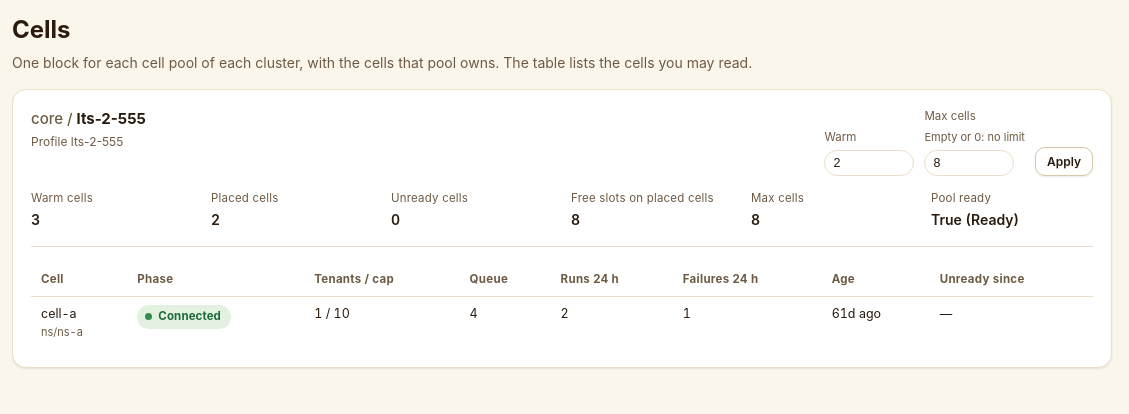
Test: The scale control reports every refusal › renders the message of a 400
The width and height of the screenshot is (1129, 414).
Replace the text in the number field named "Max cells of lts-2-555 on core" with "1" at (970, 163), box [924,150,1014,176]
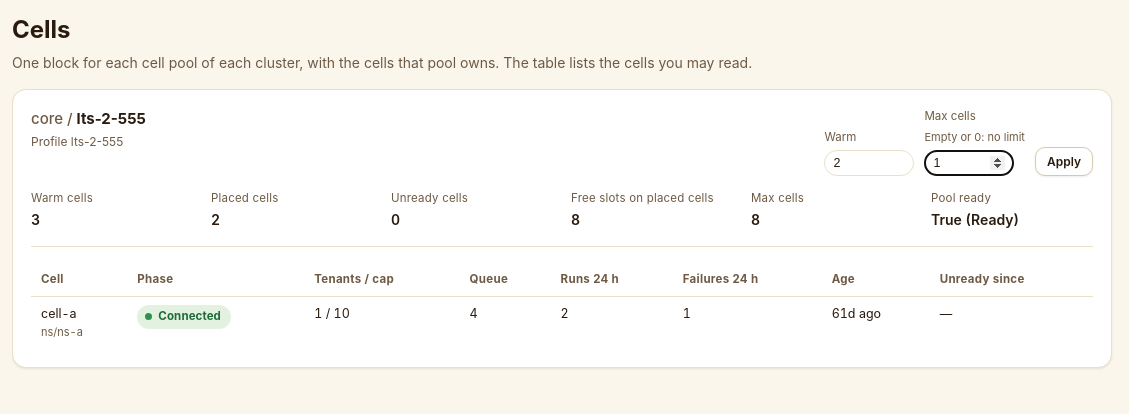
Click the button "Apply" at (1064, 161), box [1035,147,1093,176]
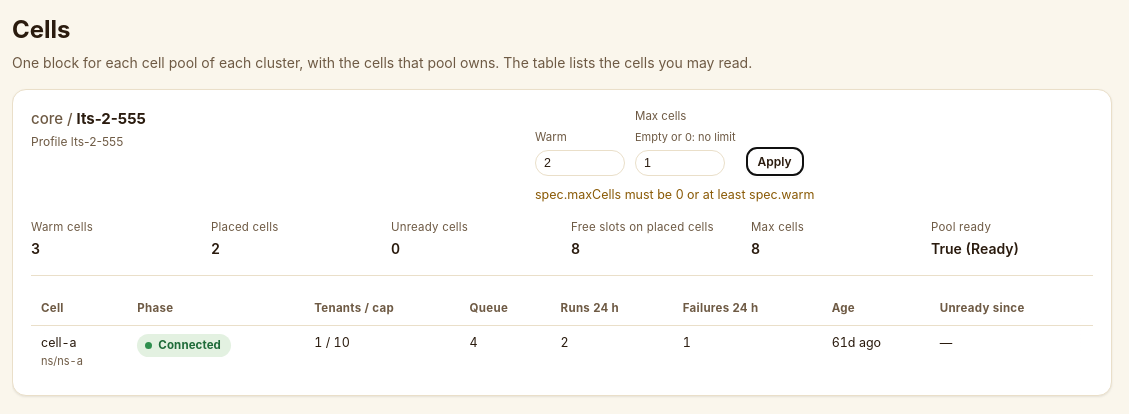
Expected: the message reads "spec.maxCells must be 0 or at least spec.warm", [535,187,814,202]
